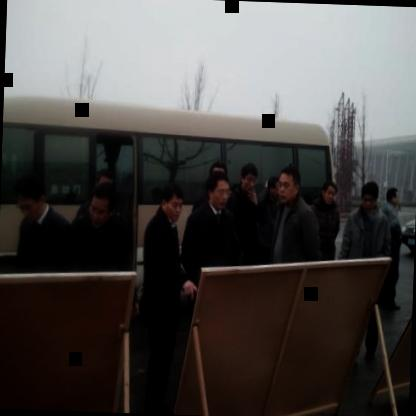head: (10, 167, 48, 220), (86, 174, 119, 228), (205, 166, 232, 210), (358, 176, 385, 216), (275, 164, 301, 204), (160, 181, 184, 221), (318, 176, 340, 211), (240, 164, 261, 197), (386, 182, 402, 209)
